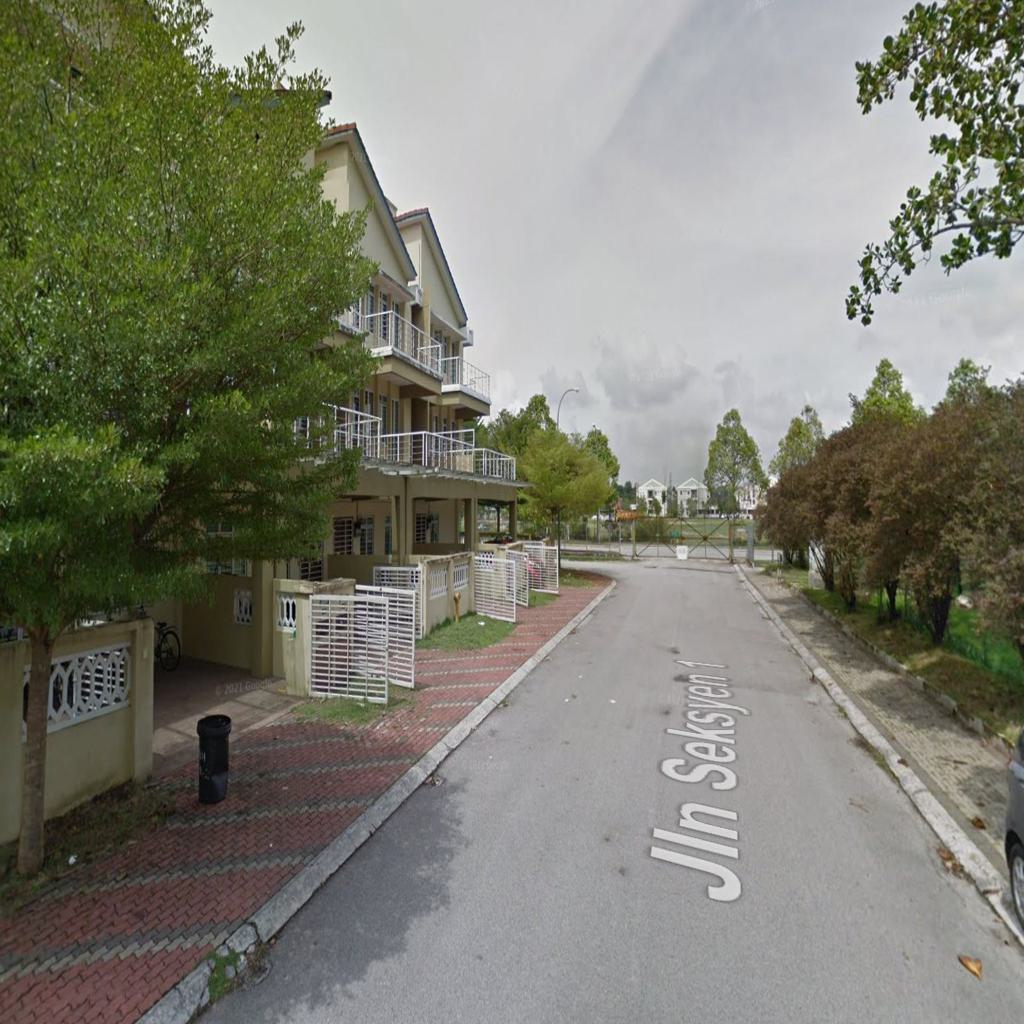Junction: (568, 537, 736, 598)
